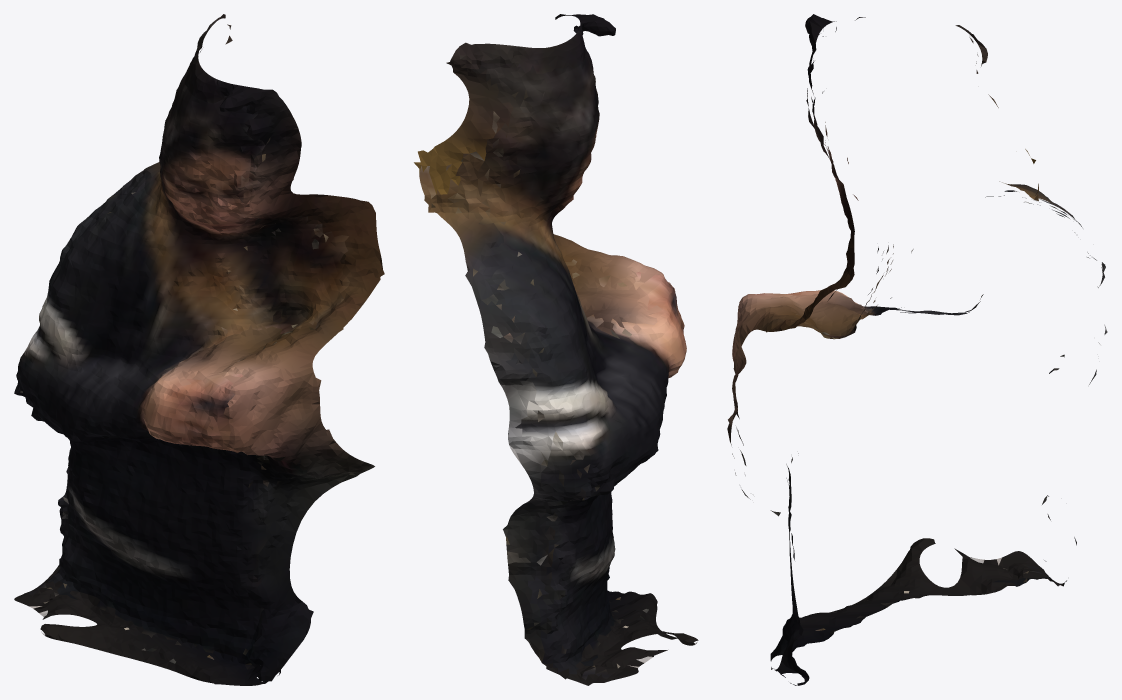
3 views of the same model, side by side, from view 1: azimuth 30°, elevation 25°; view 2: azimuth 150°, elevation 25°; view 3: azimuth 270°, elevation 25° (orthographic). The views are drawn at different scales.
Size of the model in its own units: 0.4263 by 0.8129 by 0.422.
Materials: 1 (1 with a texture image).
